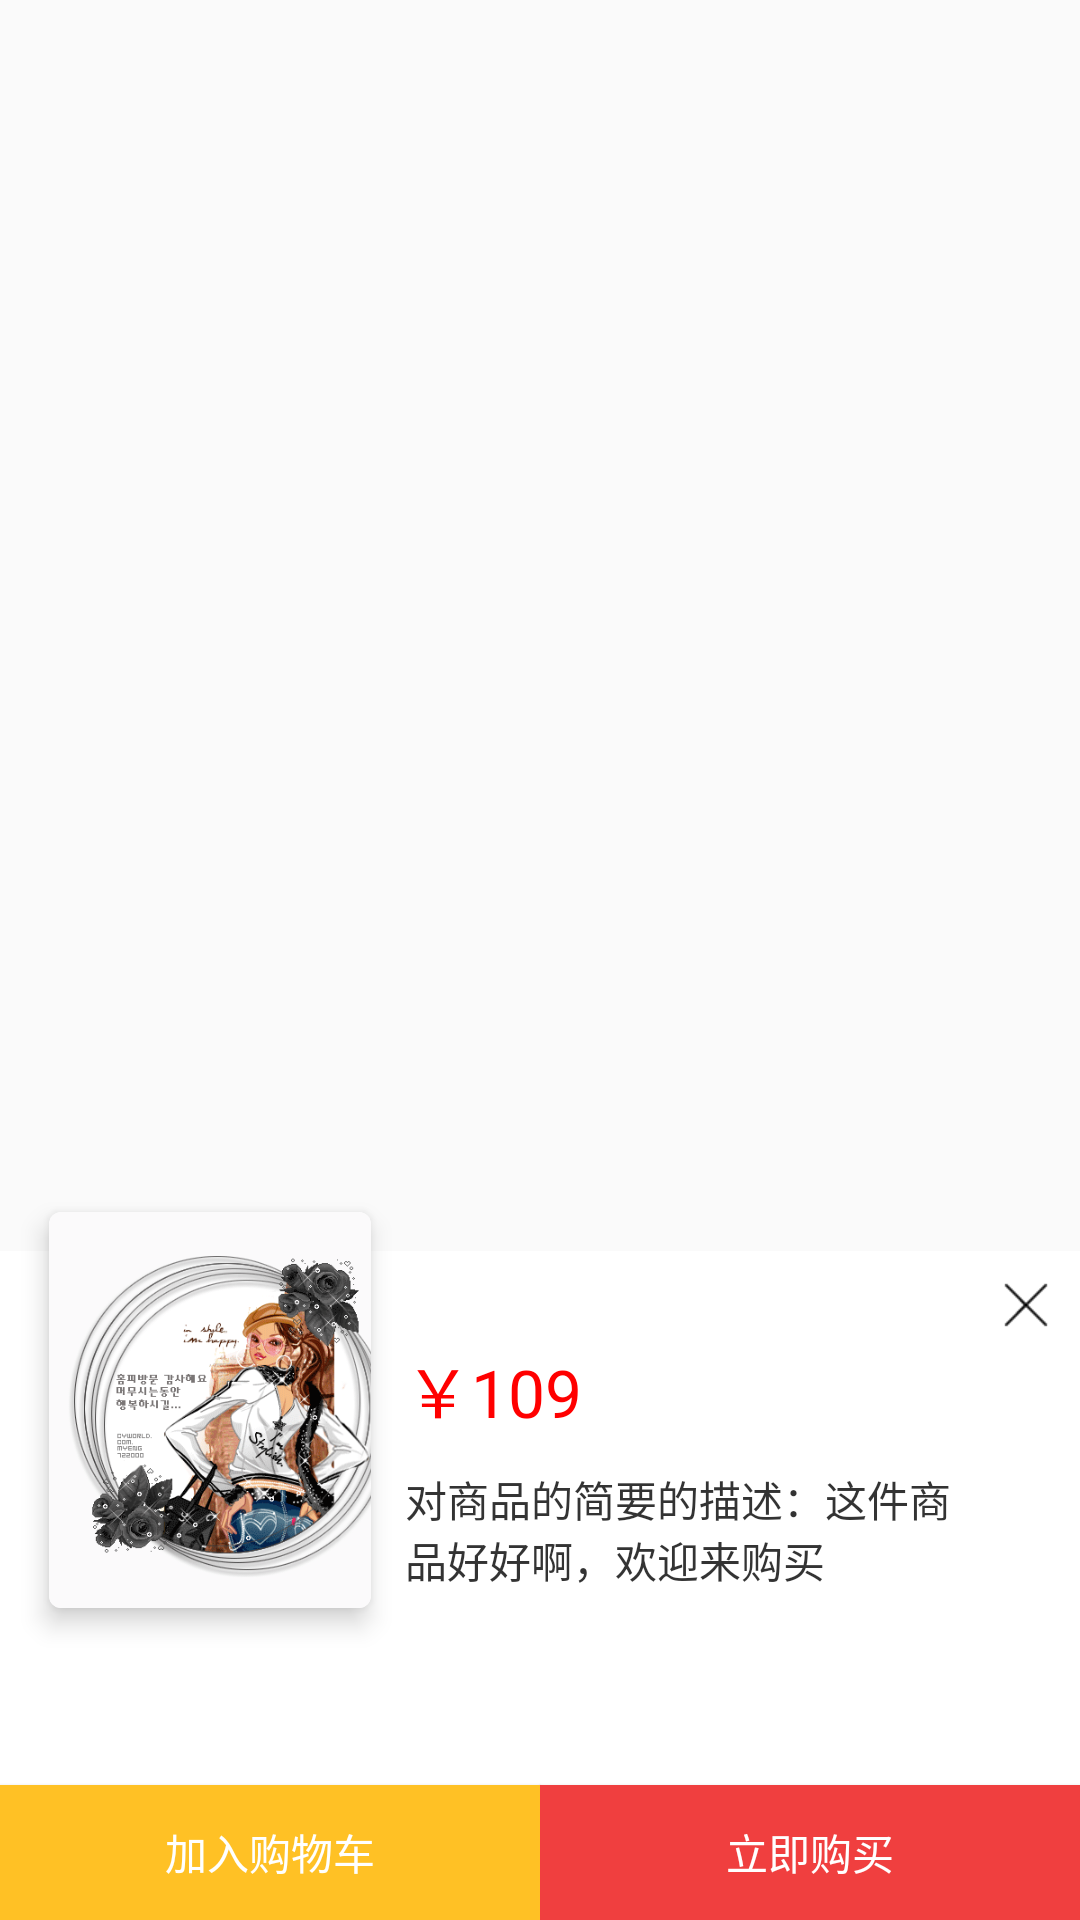

Icon bounding boxes for this 1080px x 1920px phone screenshot, format [x1,y1,x2,y2]:
buy delete: [1004,1283,1048,1327]
